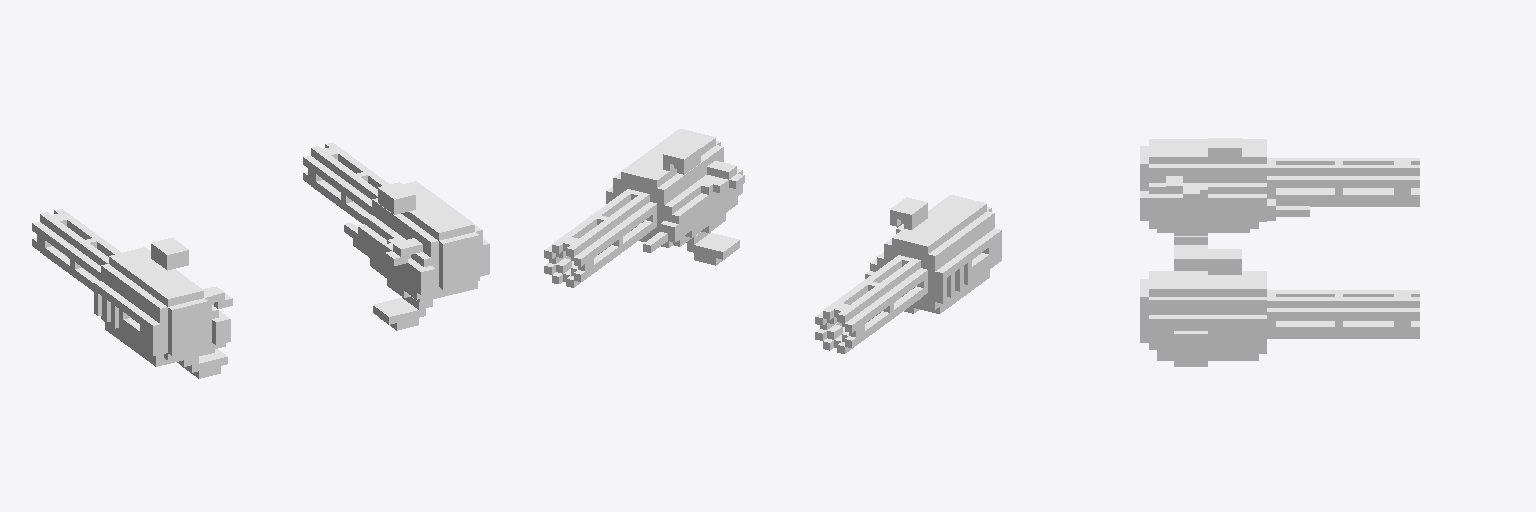
File: Minigun1.obj
The picture shows the model from 3 angles: view 1: azimuth 30°, elevation 25°; view 2: azimuth 150°, elevation 25°; view 3: azimuth 270°, elevation 25°; orthographic projection.
Parts seen in each view (by area): view 1: object 1; view 2: object 1; view 3: object 1.
Part boxes in pixels (x1,y1,x2,y2): object 1: (32,142,489,378); object 1: (544,129,1001,353); object 1: (1140,138,1419,366).
Size of the model in its own units: 4.6 by 1.5 by 3.3.